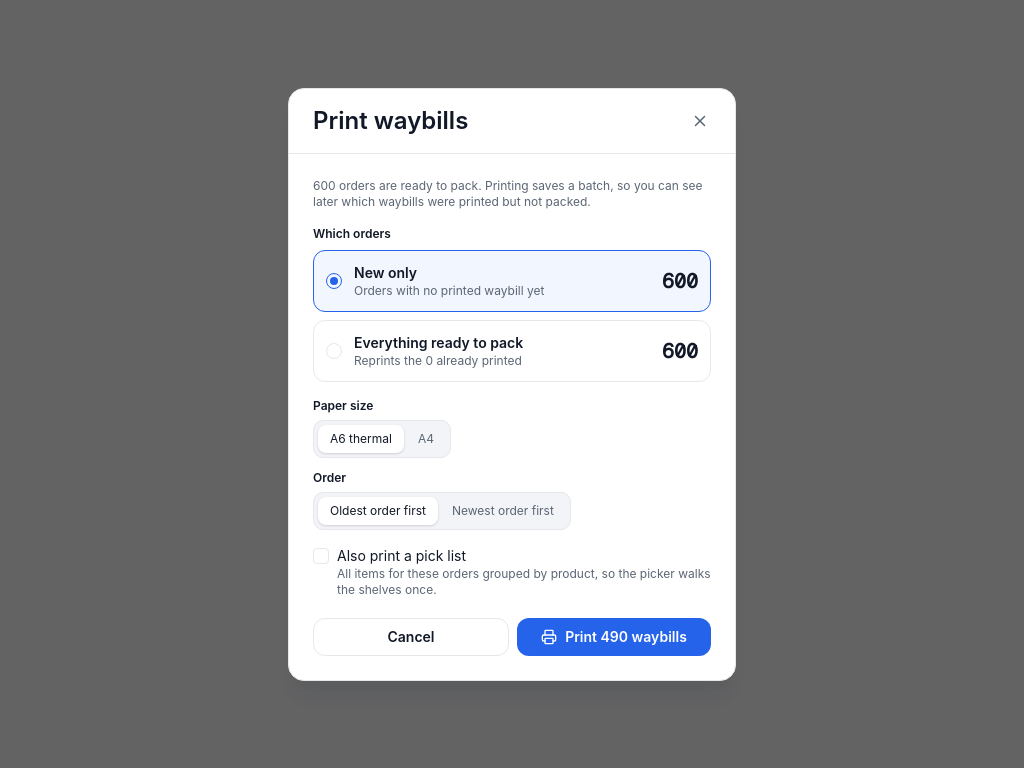
Pick & Pack — batch waybill printing › more than 490 ready: totals shown, button capped at 490, result says how many more are ready
Expected: the radio button "New only" shows "600", [662, 268, 698, 294]
Click the button "Print 490 waybills" at (614, 636), box [517, 618, 711, 656]
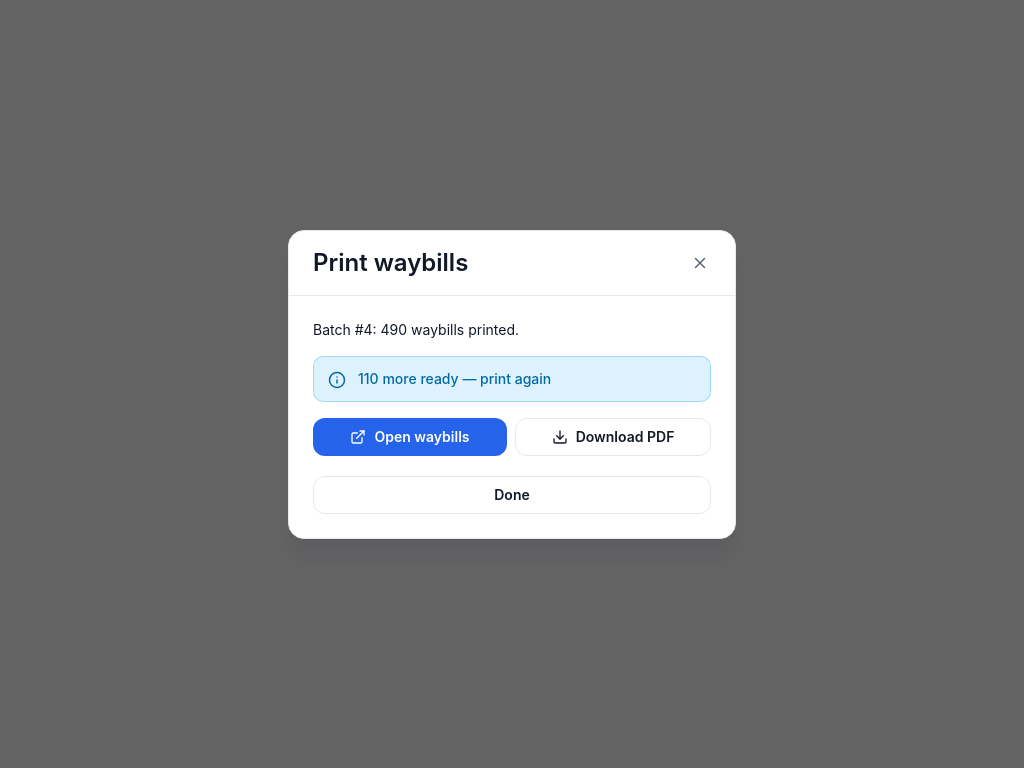
Result: the text "110 more ready — print again" is shown at [358, 370, 551, 386]
